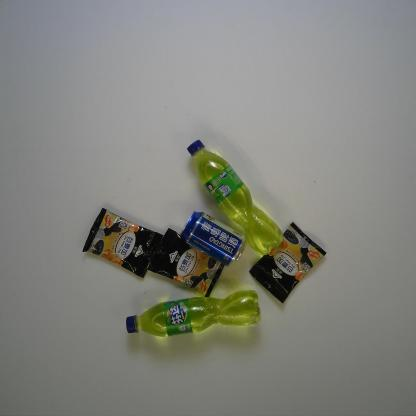Alcohol: (179, 209, 248, 268)
Drink: (186, 138, 284, 256), (125, 289, 262, 338)
Instant Drink: (248, 221, 328, 305), (81, 207, 165, 279), (147, 227, 225, 297)
